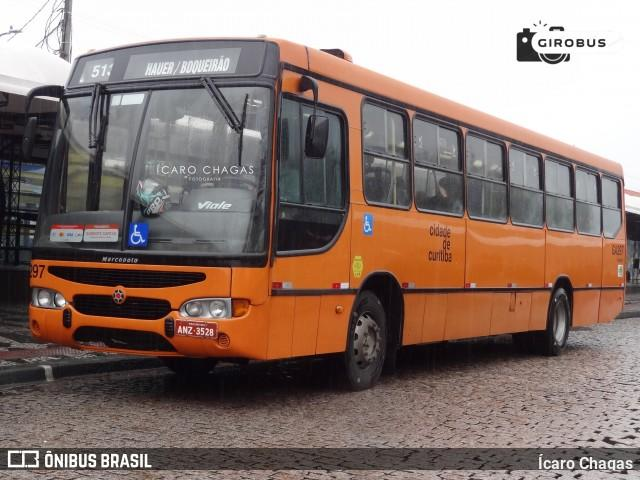HAUER BOQUEIRAO: (139, 55, 235, 79)
